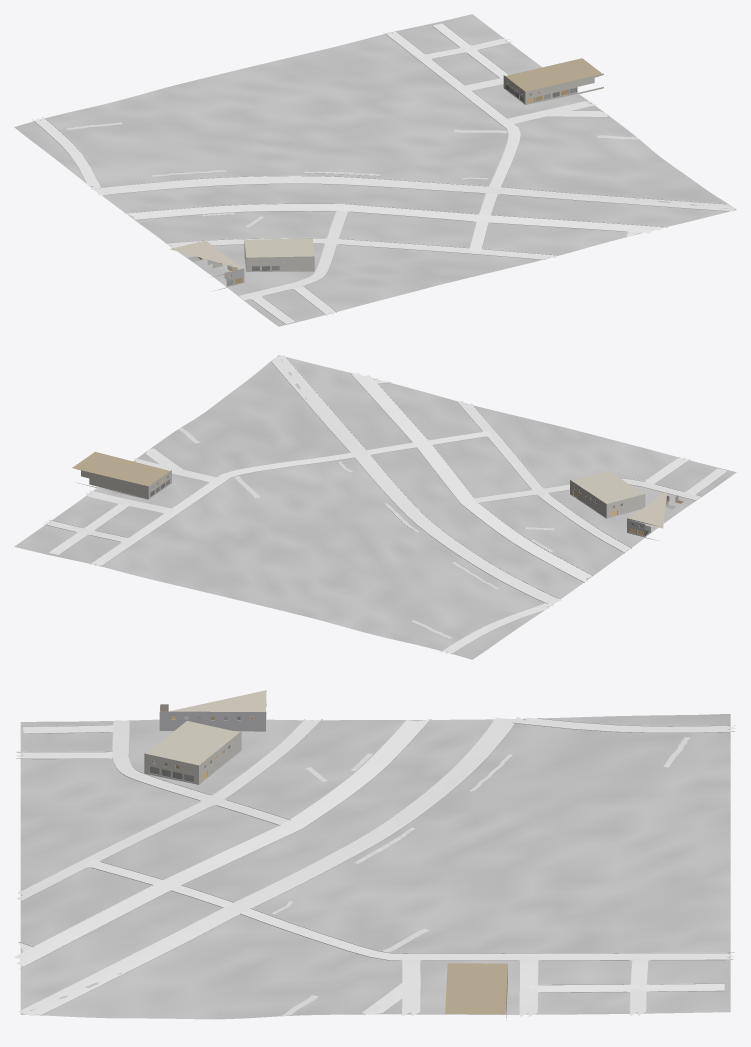
3 views of the same model, one above another, from view 1: azimuth 30°, elevation 25°; view 2: azimuth 150°, elevation 25°; view 3: azimuth 270°, elevation 25° (orthographic). The views are drawn at different scales.
Parts seen in each view (by area): view 1: ground, concrete, asphalt, curb, roof_flat, wall_com, walk; view 2: ground, concrete, asphalt, roof_flat, curb, wall_com, walk, mark_w; view 3: ground, concrete, asphalt, roof_flat, curb, wall_com, walk, mark_w, mark_y.
Boxes of the visible parts, box(x1,y1,x2,y2) form: ground: box(14, 14, 736, 326); concrete: box(36, 23, 639, 323); asphalt: box(95, 176, 734, 233); curb: box(32, 23, 730, 323); roof_flat: box(169, 58, 602, 268); wall_com: box(212, 73, 603, 290); walk: box(66, 122, 640, 227); ground: box(14, 355, 736, 659); concrete: box(45, 379, 726, 653); asphalt: box(272, 355, 591, 604); roof_flat: box(72, 451, 667, 528); curb: box(43, 357, 728, 654); wall_com: box(77, 469, 659, 540); walk: box(179, 426, 554, 638); mark_w: box(272, 357, 591, 600); ground: box(20, 714, 730, 1019); concrete: box(15, 717, 736, 1016); asphalt: box(14, 717, 515, 1014); roof_flat: box(146, 690, 507, 1014); curb: box(16, 718, 734, 1014); wall_com: box(144, 702, 507, 1020); walk: box(271, 737, 689, 1016); mark_w: box(22, 720, 511, 1014); mark_y: box(19, 719, 492, 1011).
Bounding box in the file's own units: 274 × 10.21 × 255.
